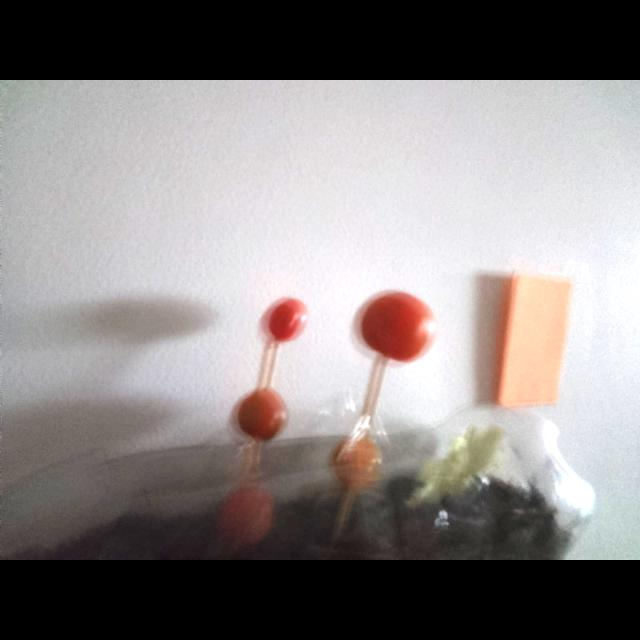card: (496, 274, 570, 407)
fruit_maturation: (332, 437, 381, 492)
fully_grown: (360, 292, 434, 362), (237, 388, 287, 441), (267, 299, 307, 342)
